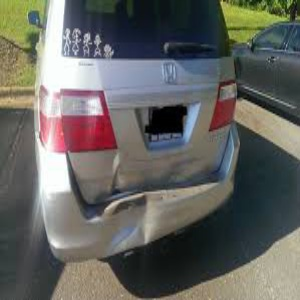bumper: (90, 191, 176, 250)
